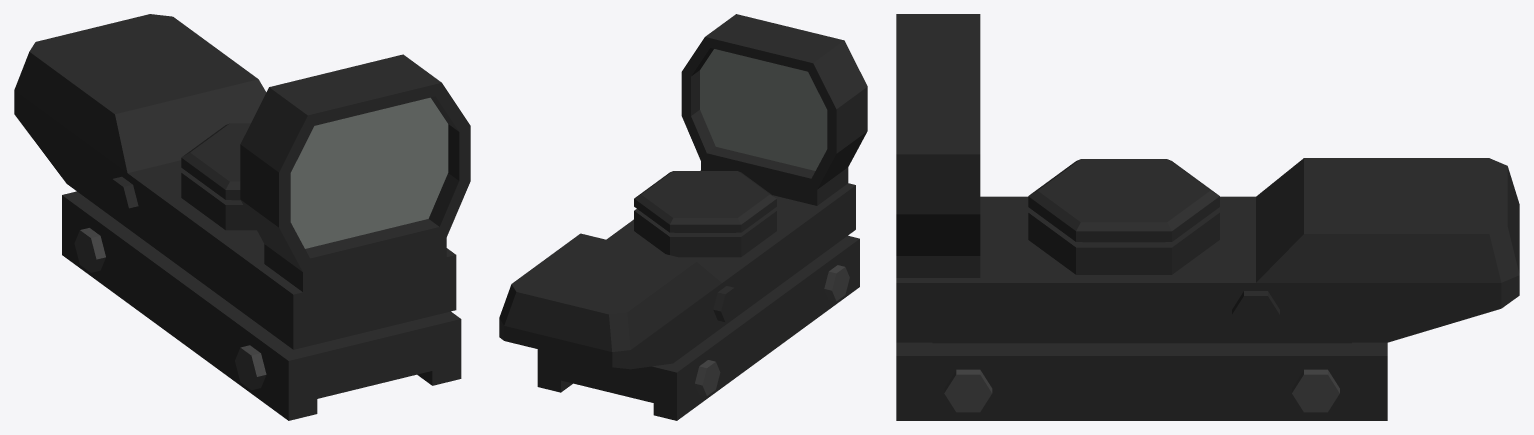
File: Optic_B.fbx
The picture shows the model from 3 angles, left to right: view 1: azimuth 30°, elevation 25°; view 2: azimuth 150°, elevation 25°; view 3: azimuth 270°, elevation 25°; orthographic projection. The views are drawn at different scales.
Visible parts, largest first — view 1: Optic_B; view 2: Optic_B; view 3: Optic_B.
Part boxes in pixels (x1,y1,x2,y2): Optic_B: (14, 14, 470, 420); Optic_B: (499, 14, 867, 420); Optic_B: (896, 14, 1519, 420).
Size of the model in its own units: 0.2 by 0.3 by 0.52.
